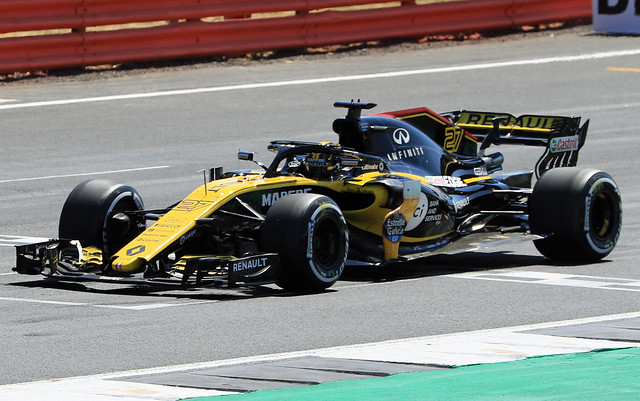F1 Car: (14, 94, 629, 298)
